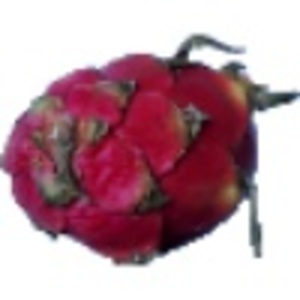pitaia: (1, 34, 300, 266)
